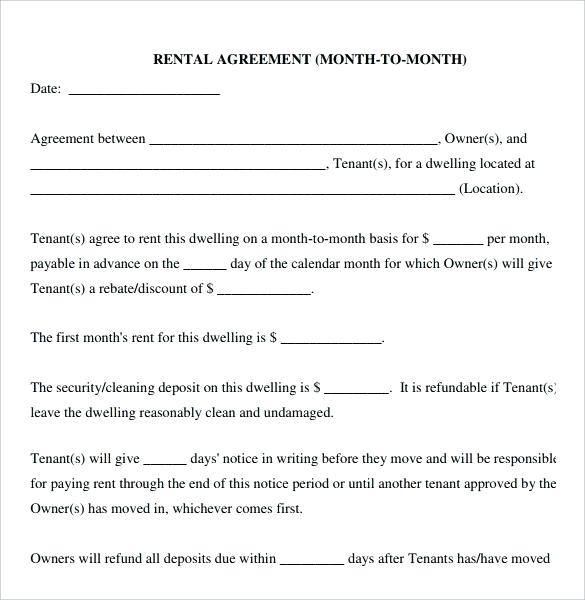textline: (27, 177, 460, 200), (152, 124, 439, 154), (25, 153, 331, 176), (66, 70, 224, 103), (279, 323, 388, 353), (217, 279, 318, 301), (279, 545, 347, 573), (431, 219, 484, 250), (324, 377, 392, 401), (181, 252, 229, 277), (140, 447, 189, 471)
